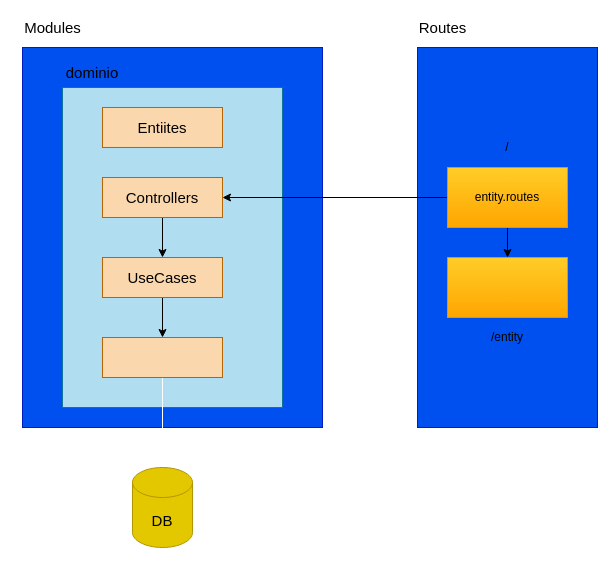
Image size: 615x565. Some labels were removed from this diagram. The shapes that lost their labels are listed below. From the top down, each one's box as (x1, y1, x2, y2) in pixels, then its label:
(446, 256, 568, 318): index
(102, 336, 222, 378): Repositories
